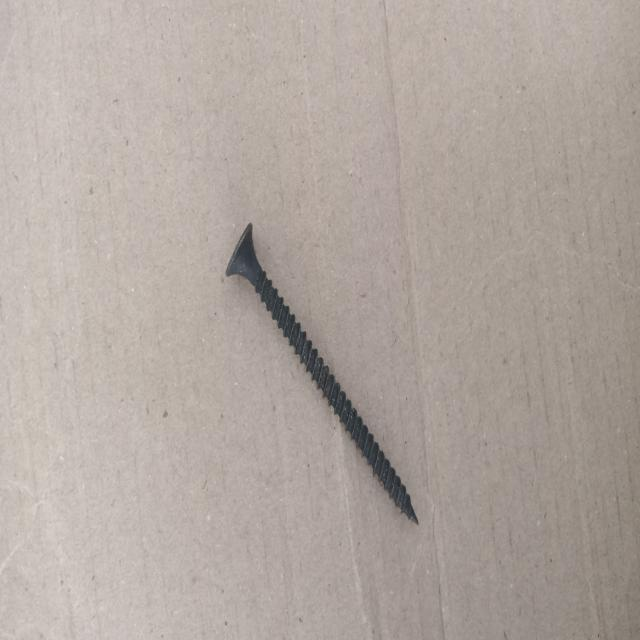screw: (225, 222, 421, 526)
